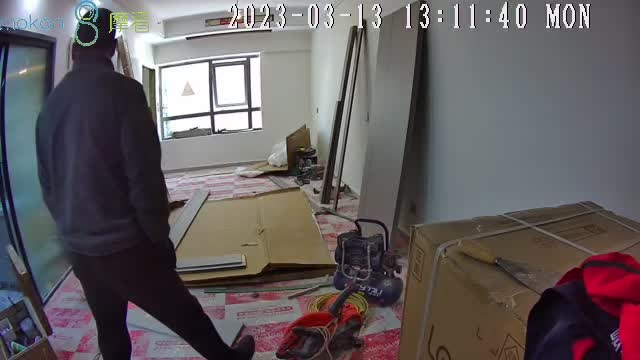people: (35, 7, 256, 359)
window: (158, 56, 261, 139)
